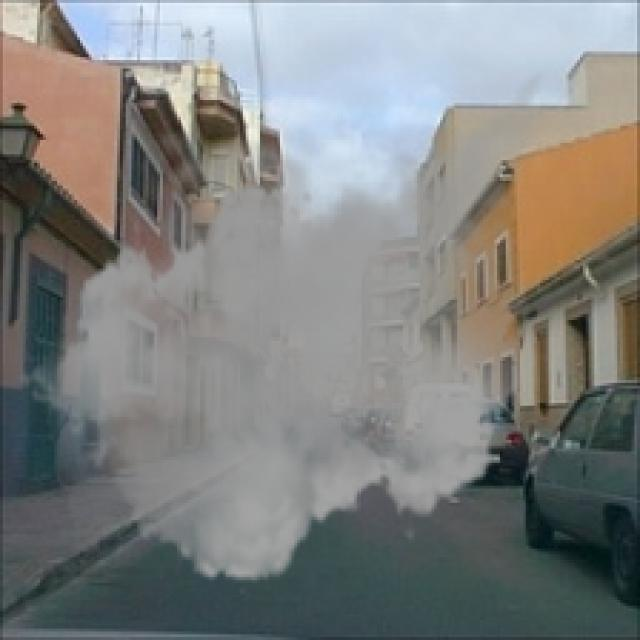Smoke: (17, 42, 557, 598)
